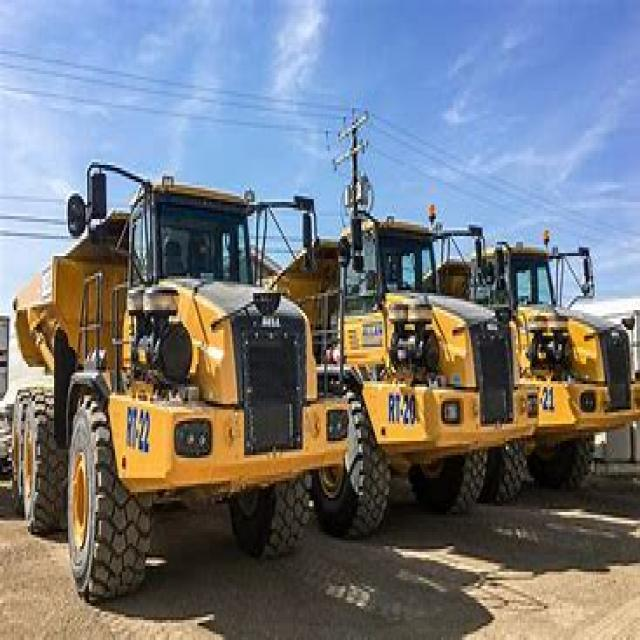dump_truck: (13, 157, 324, 598), (319, 188, 508, 532), (499, 210, 638, 478)
